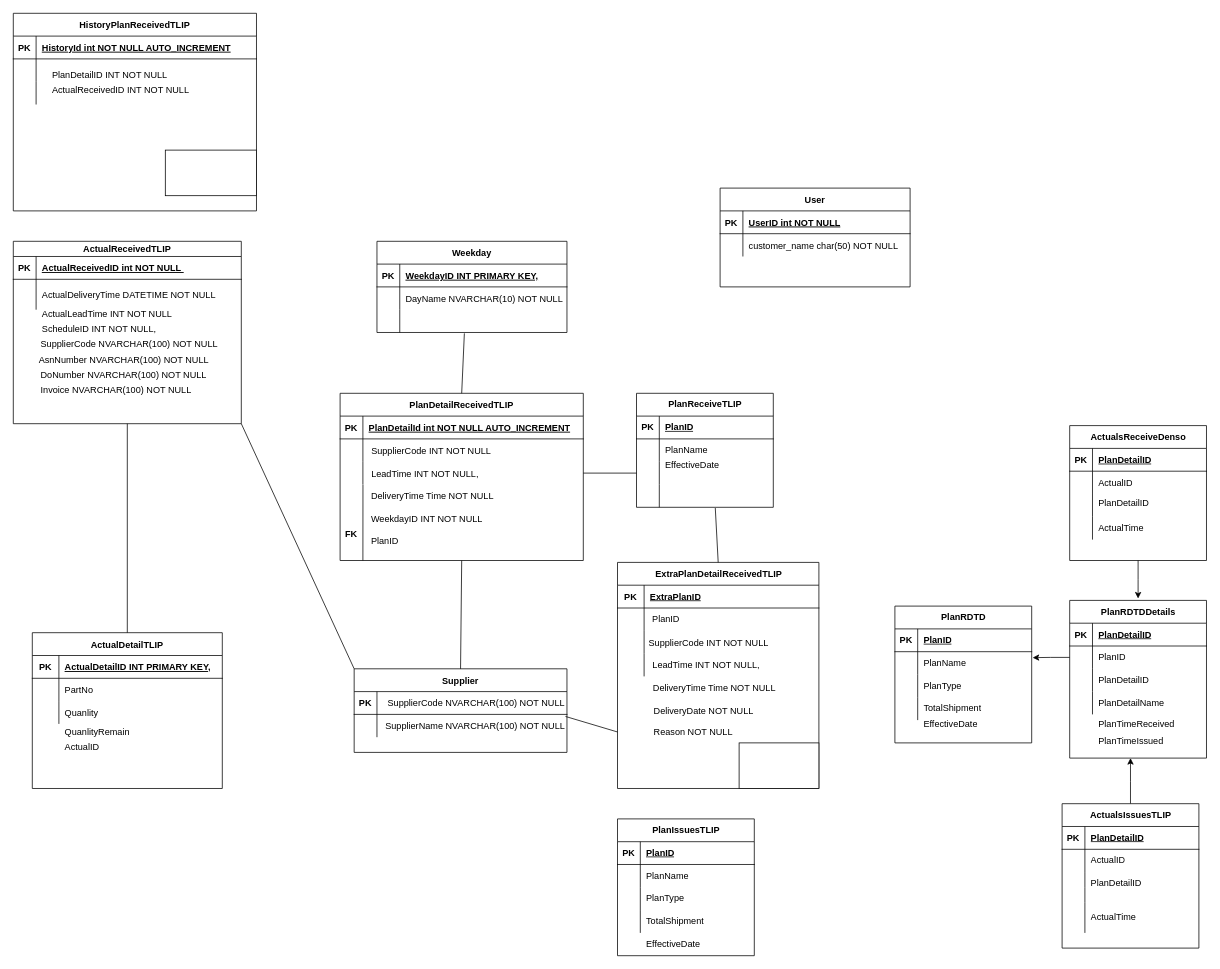
Some shapes in this 1220 by 969 pixel diagram are drawn without their labels. The shapes that lost their labels are listed below. From the top down, each one's centre as x and y in pixels, then its label:
[210,172]: Ngày cụ thể thì lấy bên Actual còn Plan như nào lấy hêt
[778,765]: Bảng này đang đợi logic và clear concept về việc thêm chuyến trong 1 ngày
